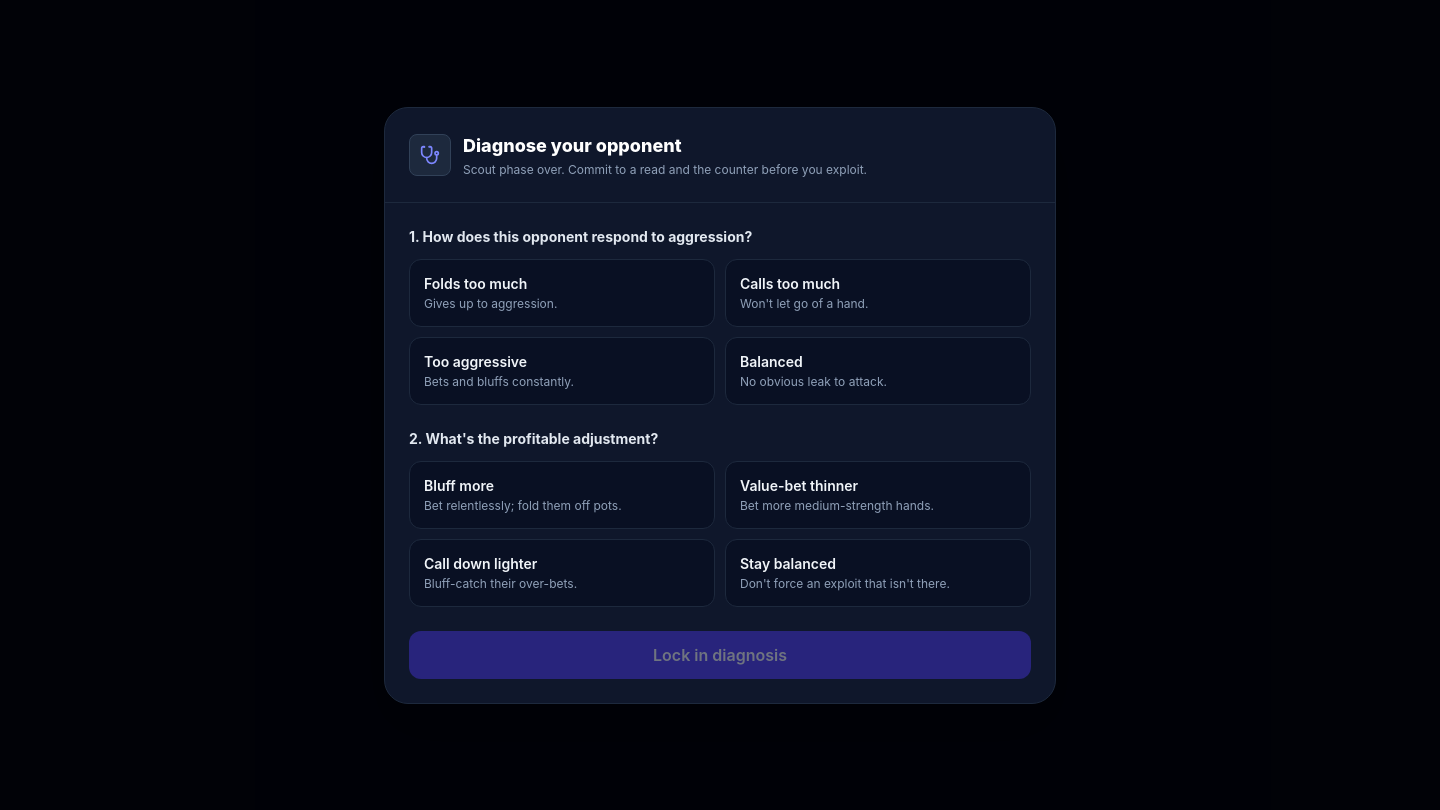
Test case: DiagnosisModal › submits the selected read + adjustment codes and shows the graded result
What coordinates should you click on to do the following:
click the text "Folds too much"
I would click on:
 (476, 283)
Its box is 424,274 -> 527,292.
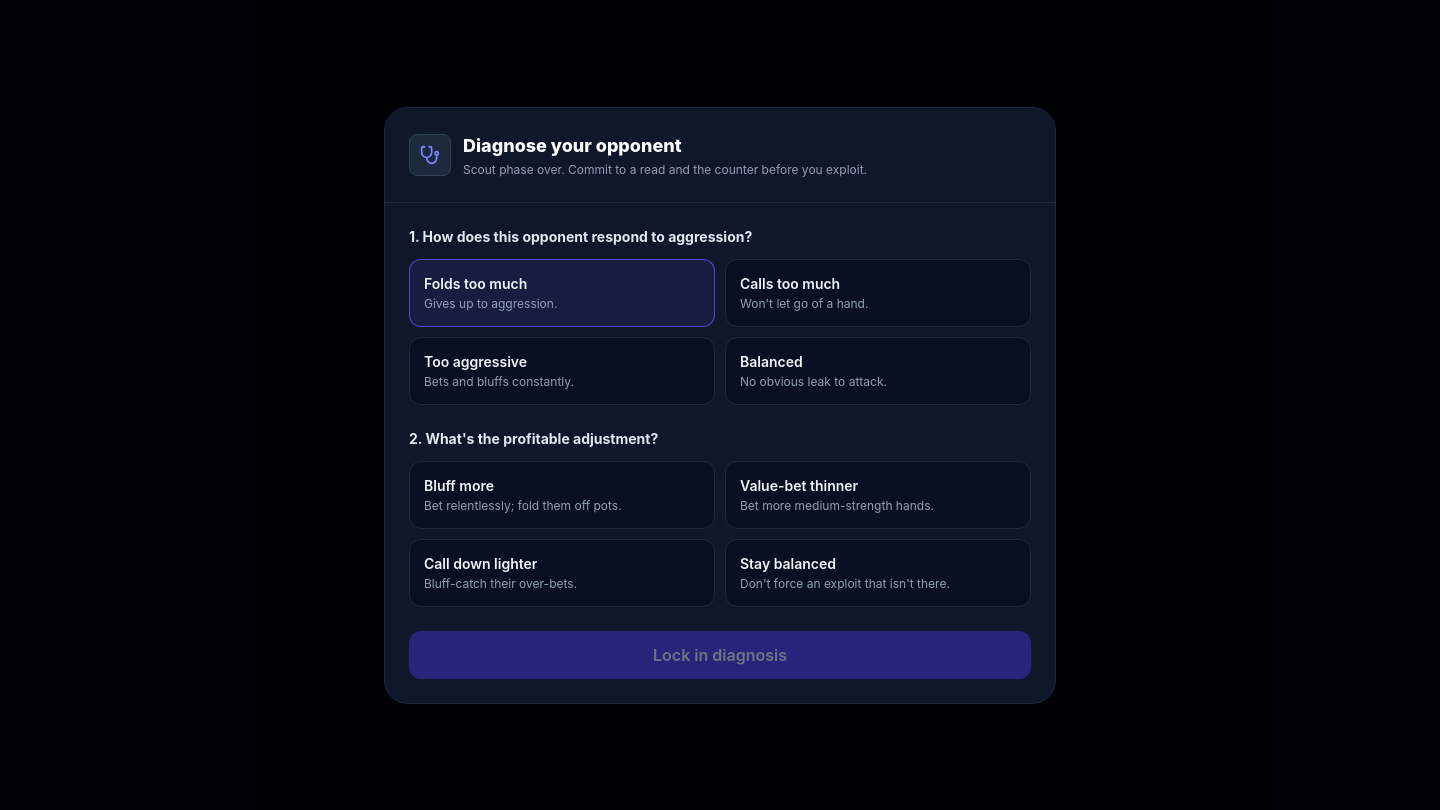
What coordinates should you click on to do the following:
click the text "Bluff more"
I would click on:
 (459, 485)
Its box is 424,476 -> 494,494.
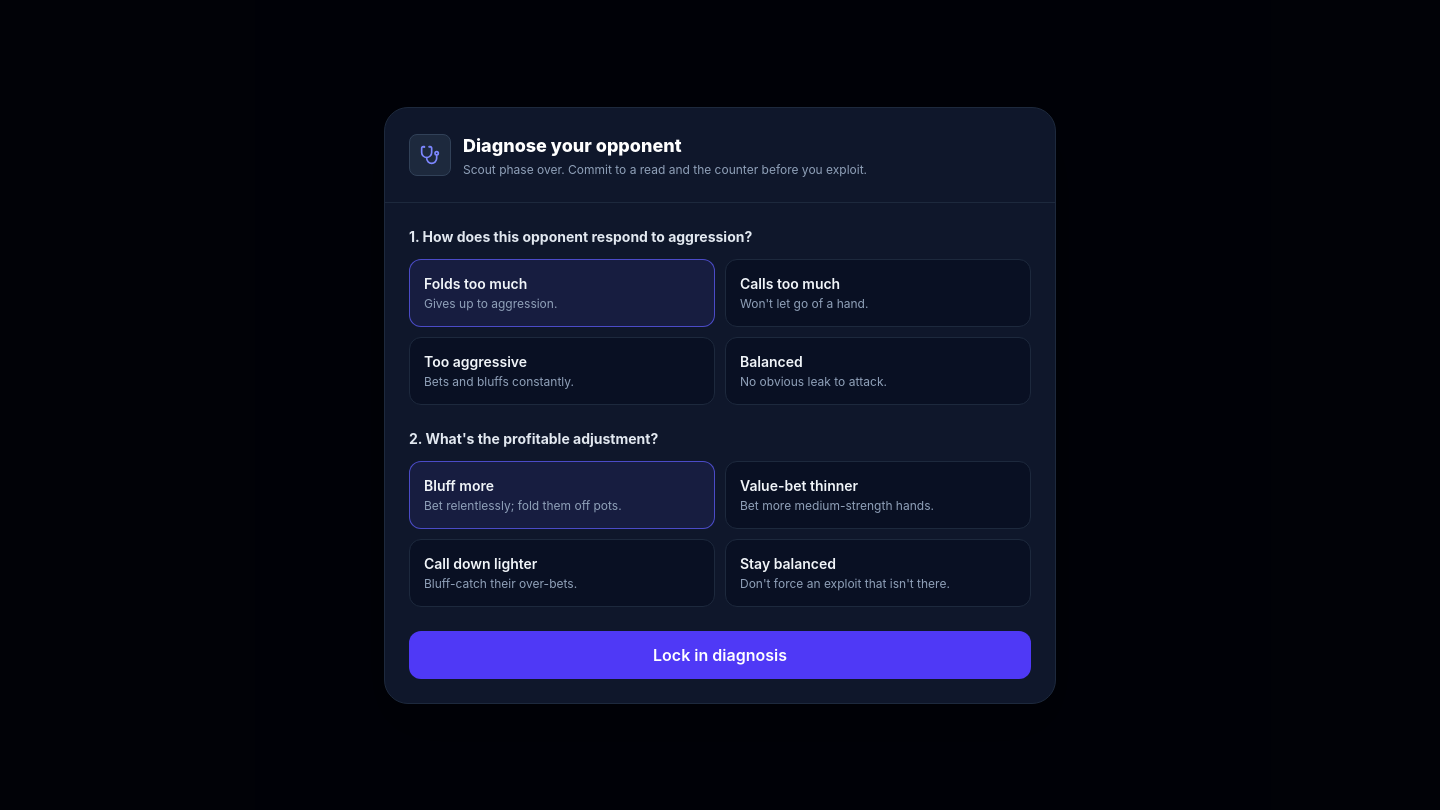
What coordinates should you click on to do the following:
click the button "Lock in diagnosis"
I would click on:
 (720, 654)
Its box is 409,630 -> 1031,678.
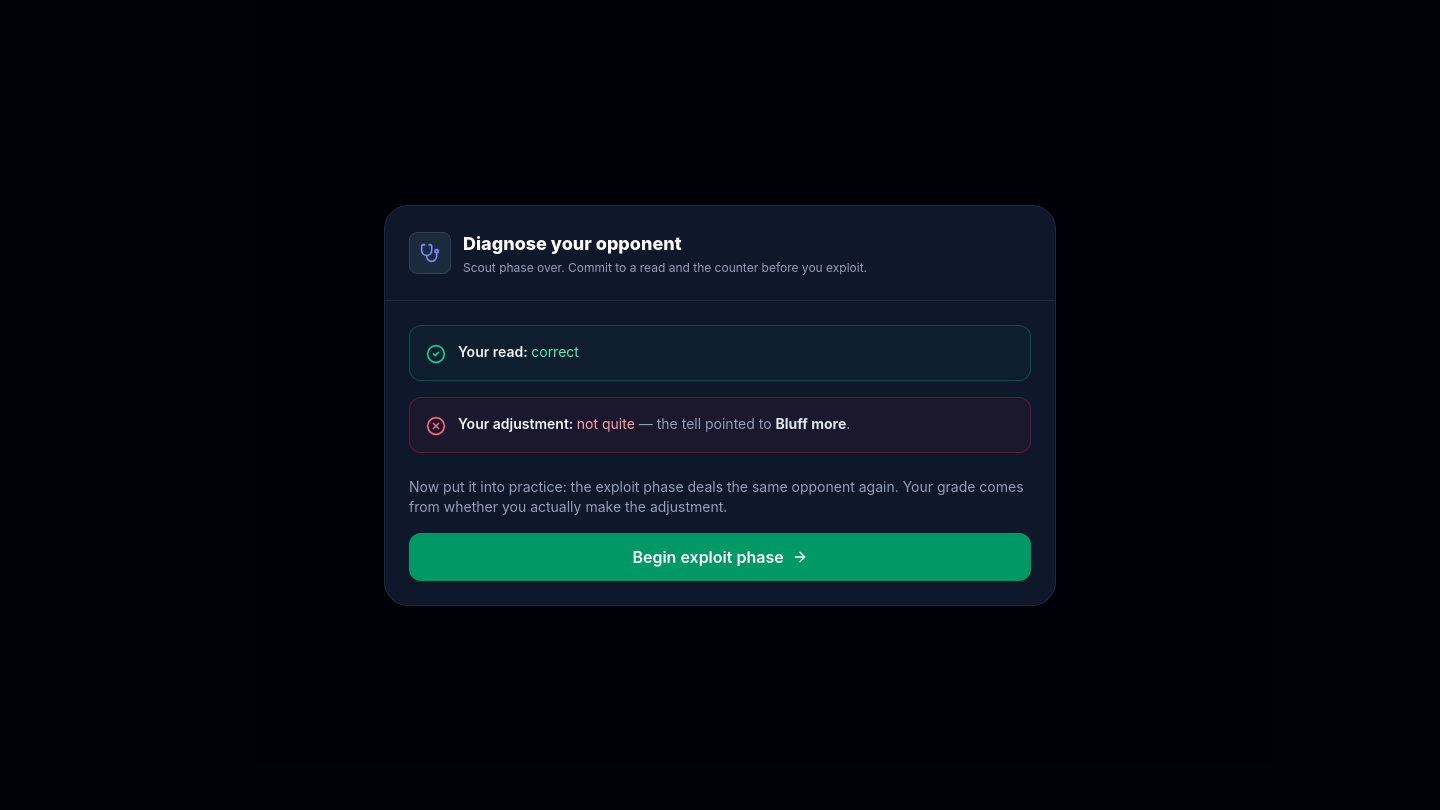
Expected: the text "Your read:" is shown, 458,342 -> 531,360
Expected: the text "Your adjustment:" is shown, 458,414 -> 577,432
Expected: the button "Begin exploit phase" is shown, 409,532 -> 1031,580
